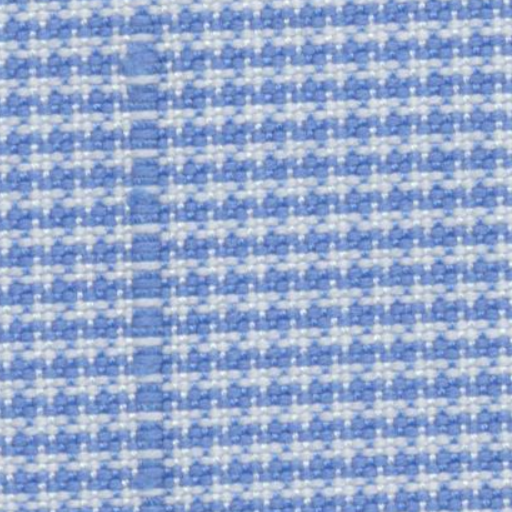TuoSha: (76, 14, 210, 498)
